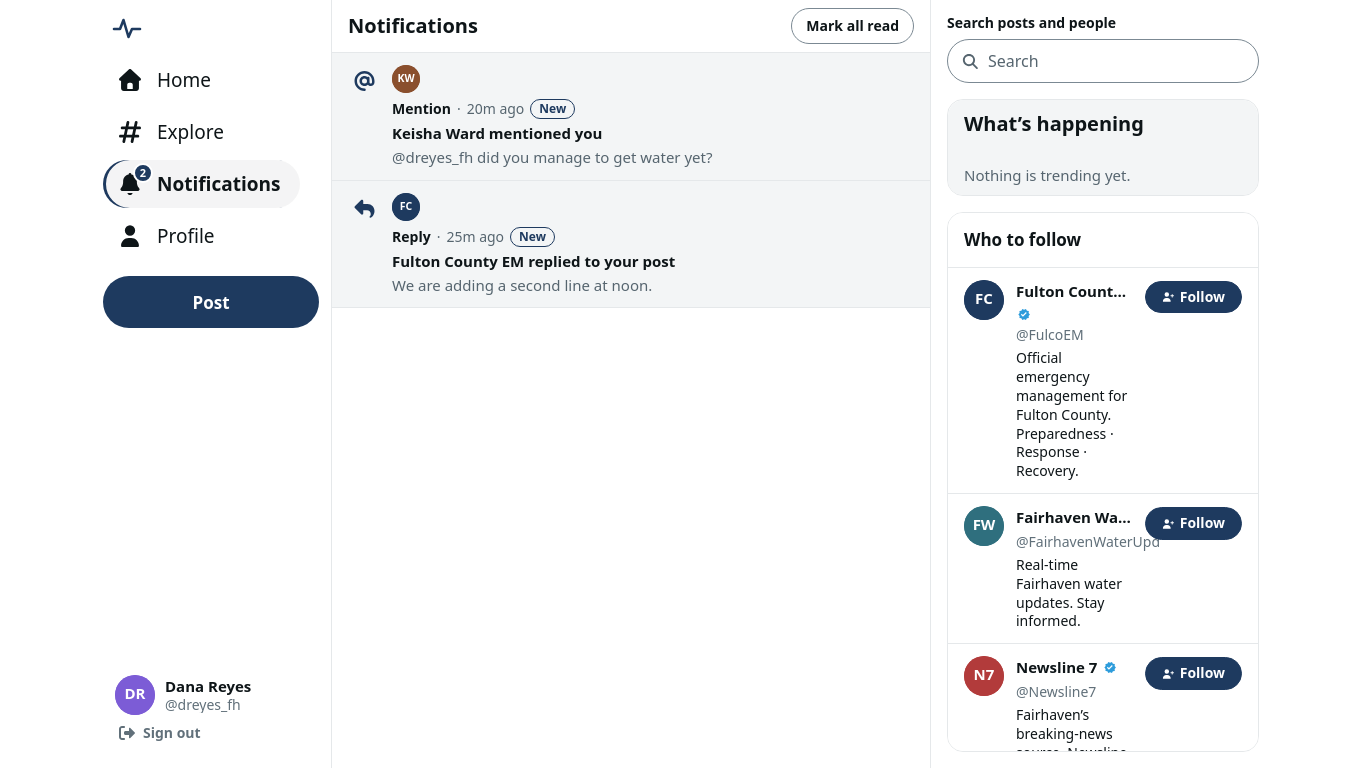
Test case: "Mark all read" › clears the badge, keeps the rows, and persists under the exercise- and persona-scoped key
Expected: the number of list items with test id "notification-row" is 2, [332,53,930,180]; [332,180,930,308]
Expected: the link with aria-label "Notifications, 2 unread" is shown, [103,160,300,208]
Click the button "Mark all read" at (853, 26), box [791,8,914,44]
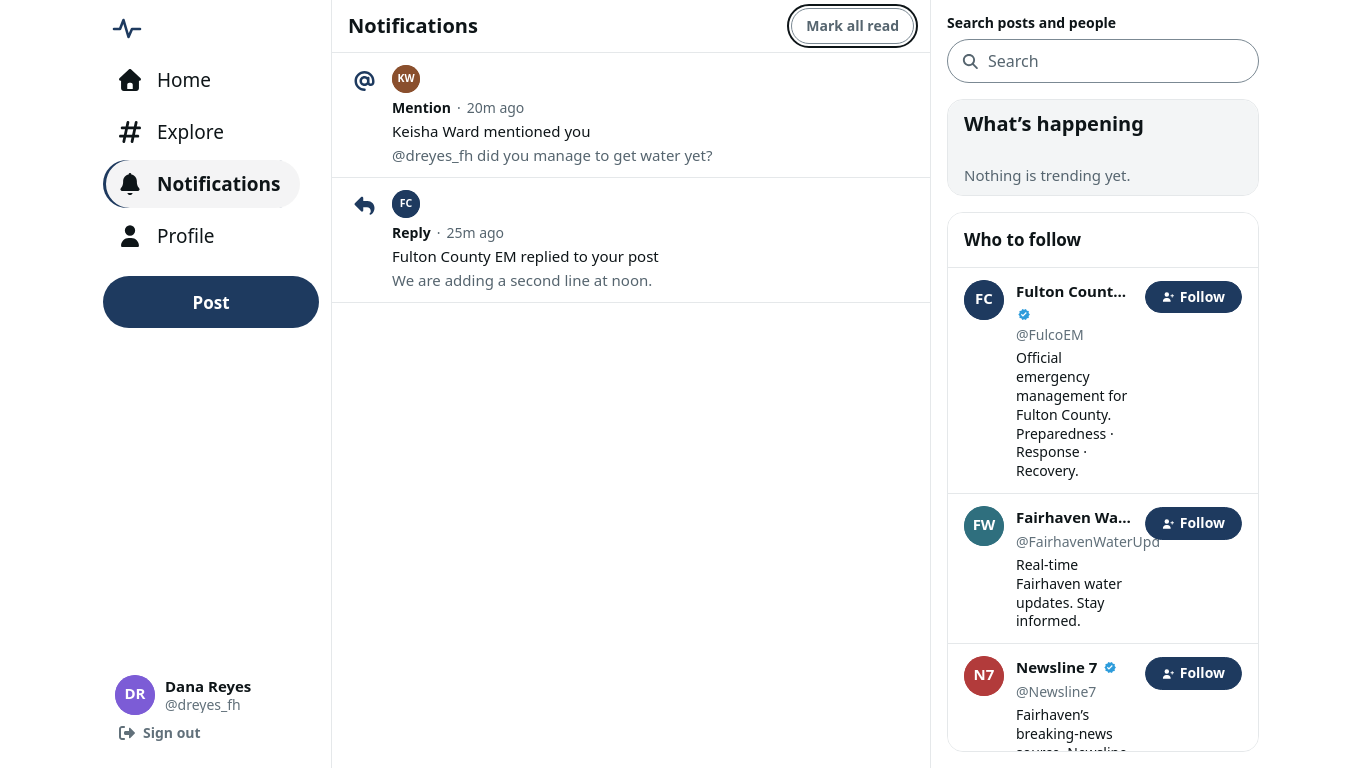
Expected: the link "Notifications" is shown, [103,160,300,208]
Now the text with test id "notifications-badge" is gone
